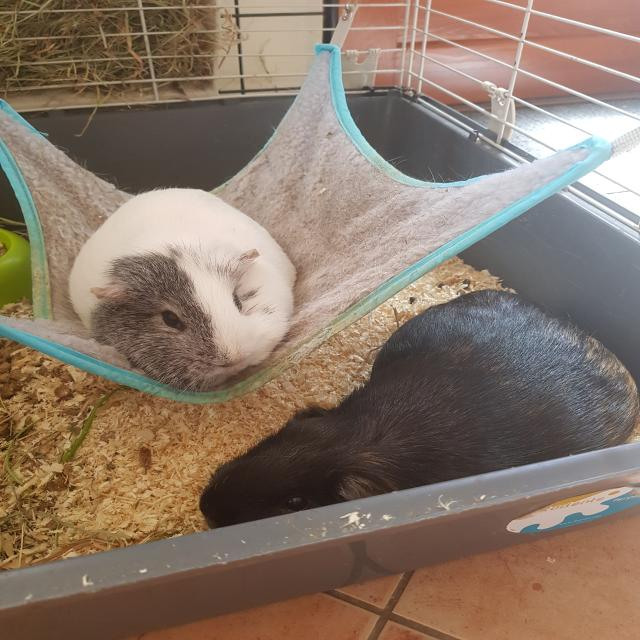guinea pig: (193, 285, 638, 530), (65, 186, 300, 392)
